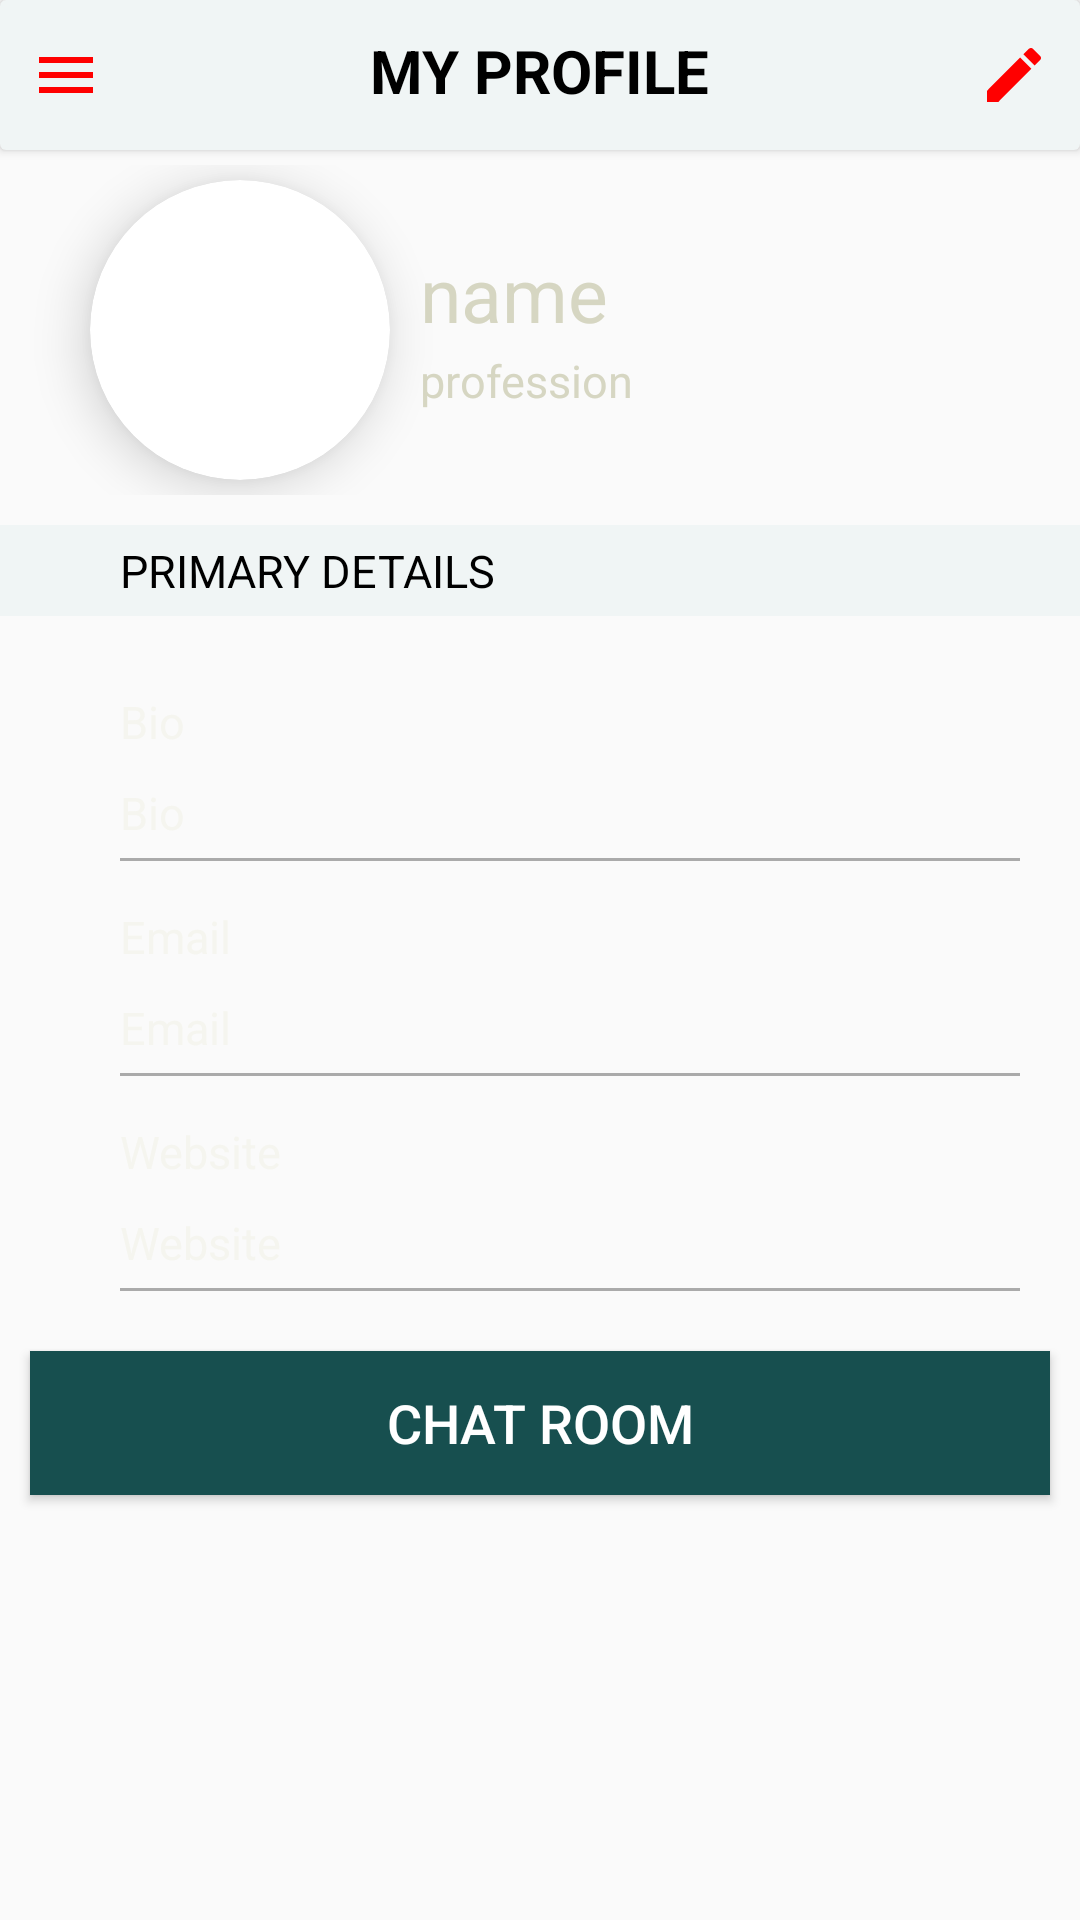

Icon bounding boxes for this 1080 x 1920 phone screenshot, format (x1, y1, x2, y2):
edit: (987, 48, 1041, 102)
menu: (39, 57, 93, 93)
